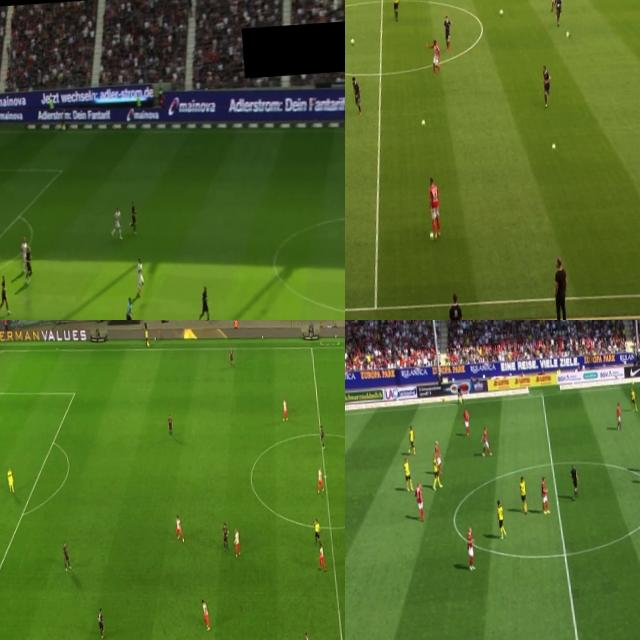ball: (428, 230, 435, 240), (499, 6, 504, 16), (349, 37, 355, 44), (566, 30, 570, 40), (550, 144, 556, 150), (420, 118, 424, 125)
player: (428, 176, 442, 238), (463, 524, 476, 570), (494, 498, 507, 540), (429, 38, 442, 76), (401, 454, 413, 491), (23, 244, 34, 284), (112, 202, 124, 238), (538, 477, 550, 512), (518, 474, 528, 516), (414, 480, 424, 522), (0, 270, 10, 311), (198, 286, 210, 320), (128, 200, 140, 234), (136, 258, 146, 298), (542, 65, 552, 105), (200, 596, 211, 630), (60, 542, 72, 572), (432, 455, 442, 489), (353, 78, 362, 114), (4, 468, 16, 495), (95, 604, 105, 636), (408, 419, 417, 453), (613, 400, 623, 430), (164, 410, 175, 437), (174, 515, 184, 543), (314, 464, 324, 492), (316, 424, 326, 452), (628, 382, 638, 410), (444, 14, 452, 48), (480, 426, 489, 456), (280, 394, 290, 420), (433, 438, 441, 470), (21, 240, 28, 276), (221, 520, 229, 551), (225, 342, 235, 366), (233, 526, 241, 556), (318, 542, 326, 572), (462, 406, 470, 434), (553, 0, 563, 20), (549, 0, 561, 12), (637, 439, 640, 471), (301, 631, 311, 640)
